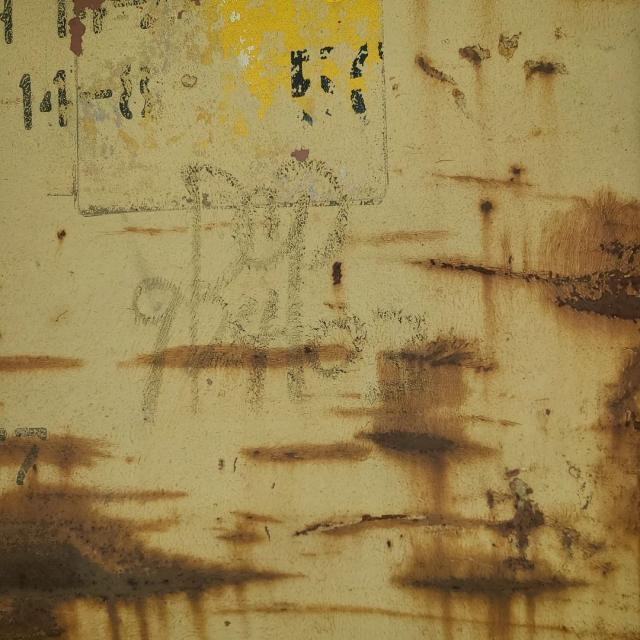-: (115, 150, 454, 474), (16, 0, 177, 144)
